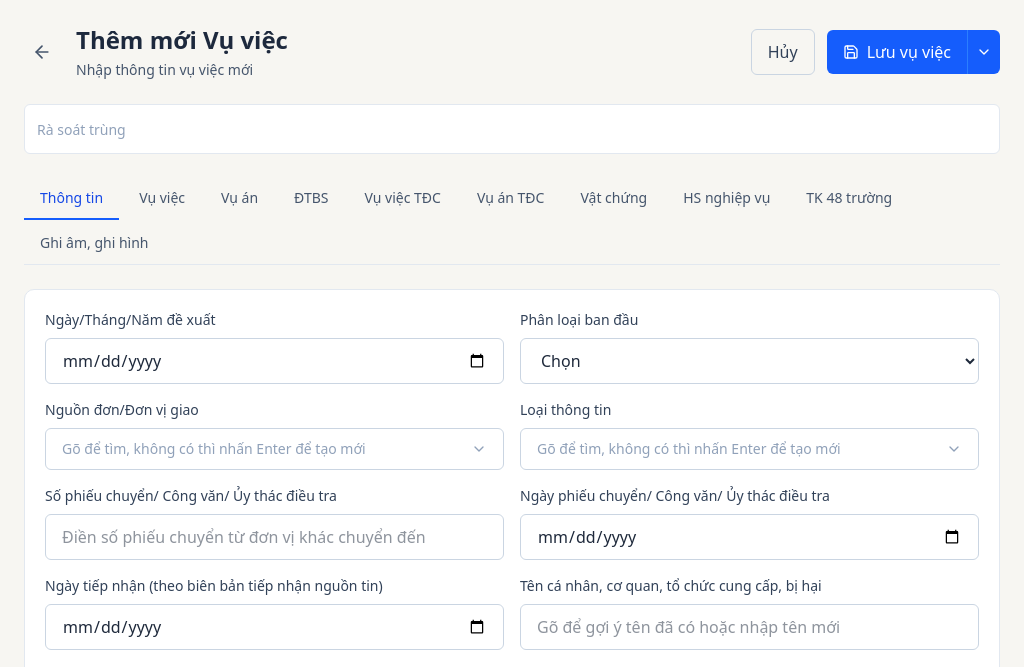
Scenario: IncidentFormPage — lý do không khởi tố qua CatalogSelect (PR-1) › PR-2: lyDoTamDinhChiVuViec render qua CatalogSelect (cat-{code}) trong section TĐC
The width and height of the screenshot is (1024, 667).
Ô căn cứ tạm đình chỉ nay ở tab "Vụ việc TĐC" theo đúng bố cục hệ cũ.
Click the button with test id "tab-nut-incident-tdc": (403, 199) [348, 178, 457, 220]
(page scrolled)
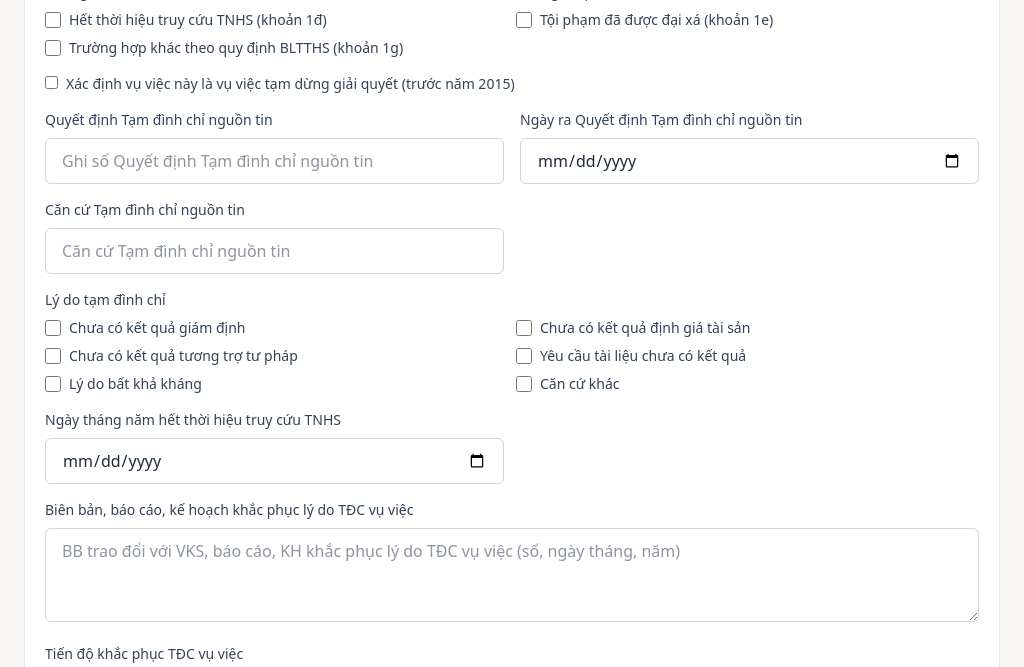
Check: the checkbox with test id "cat-CHUA_CO_KET_QUA_GIAM_DINH" is shown, box [45, 320, 61, 336]
Check: the checkbox with test id "cat-BAT_KHA_KHANG" is shown, box [45, 376, 61, 392]
